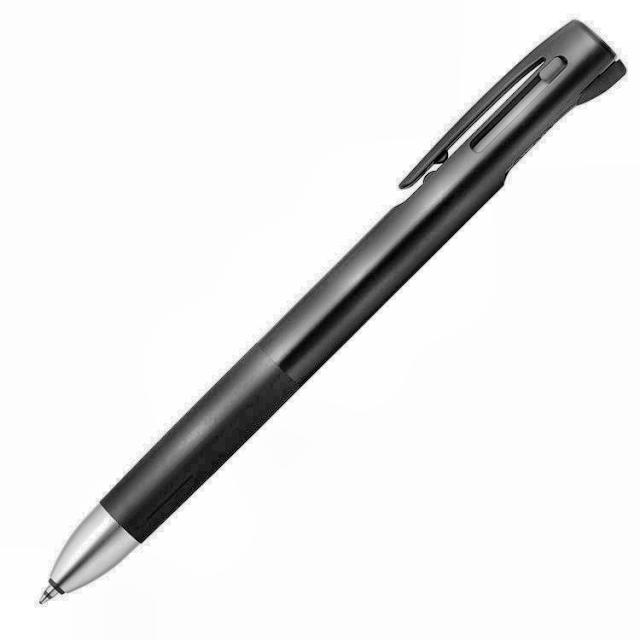Pen: (34, 0, 627, 614)
